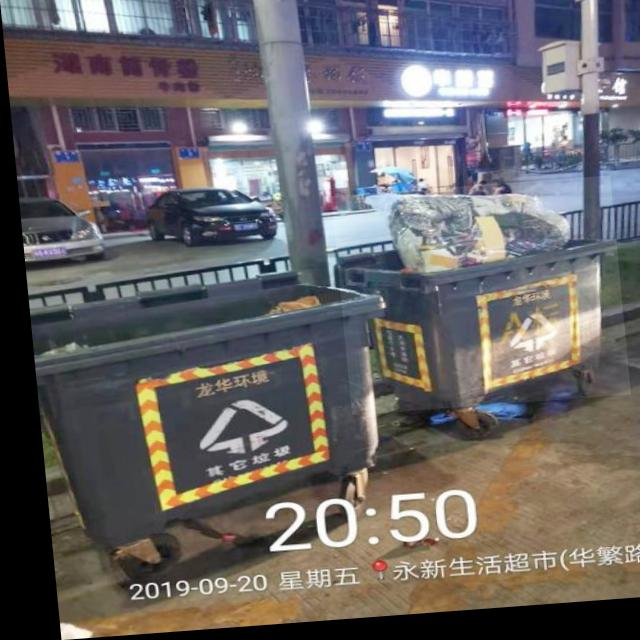garbage_bin: (22, 270, 394, 552)
overflow: (327, 185, 622, 420)
